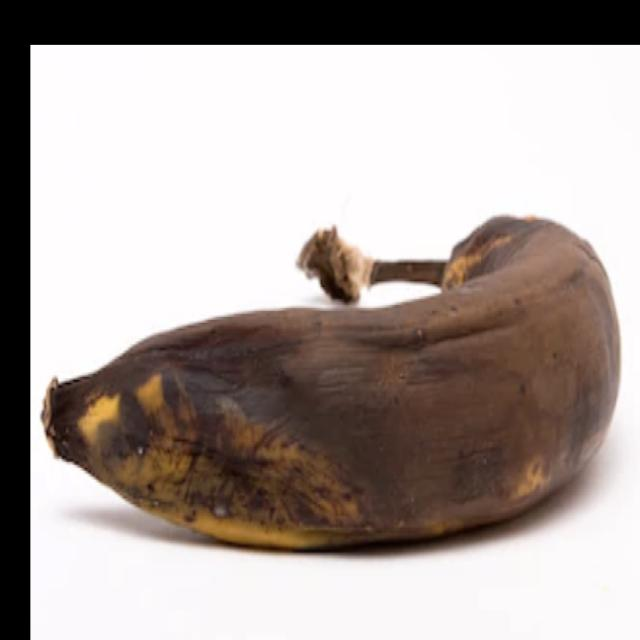Rotten: (25, 150, 639, 571)
